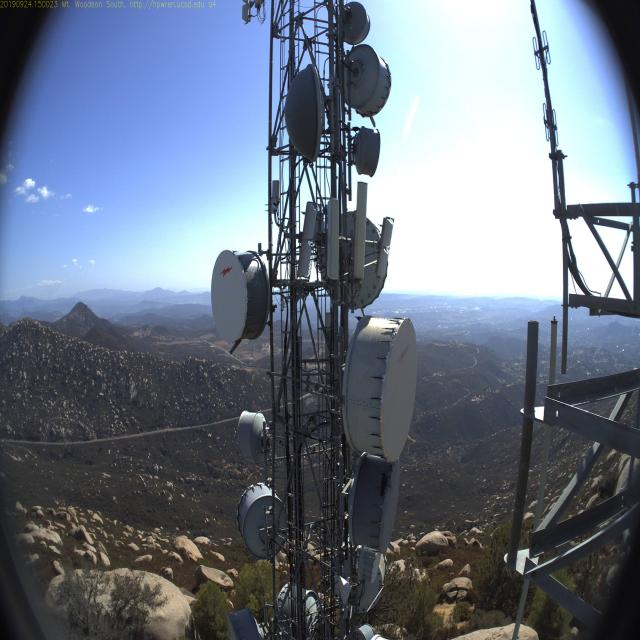smoke: (28, 293, 41, 310)
